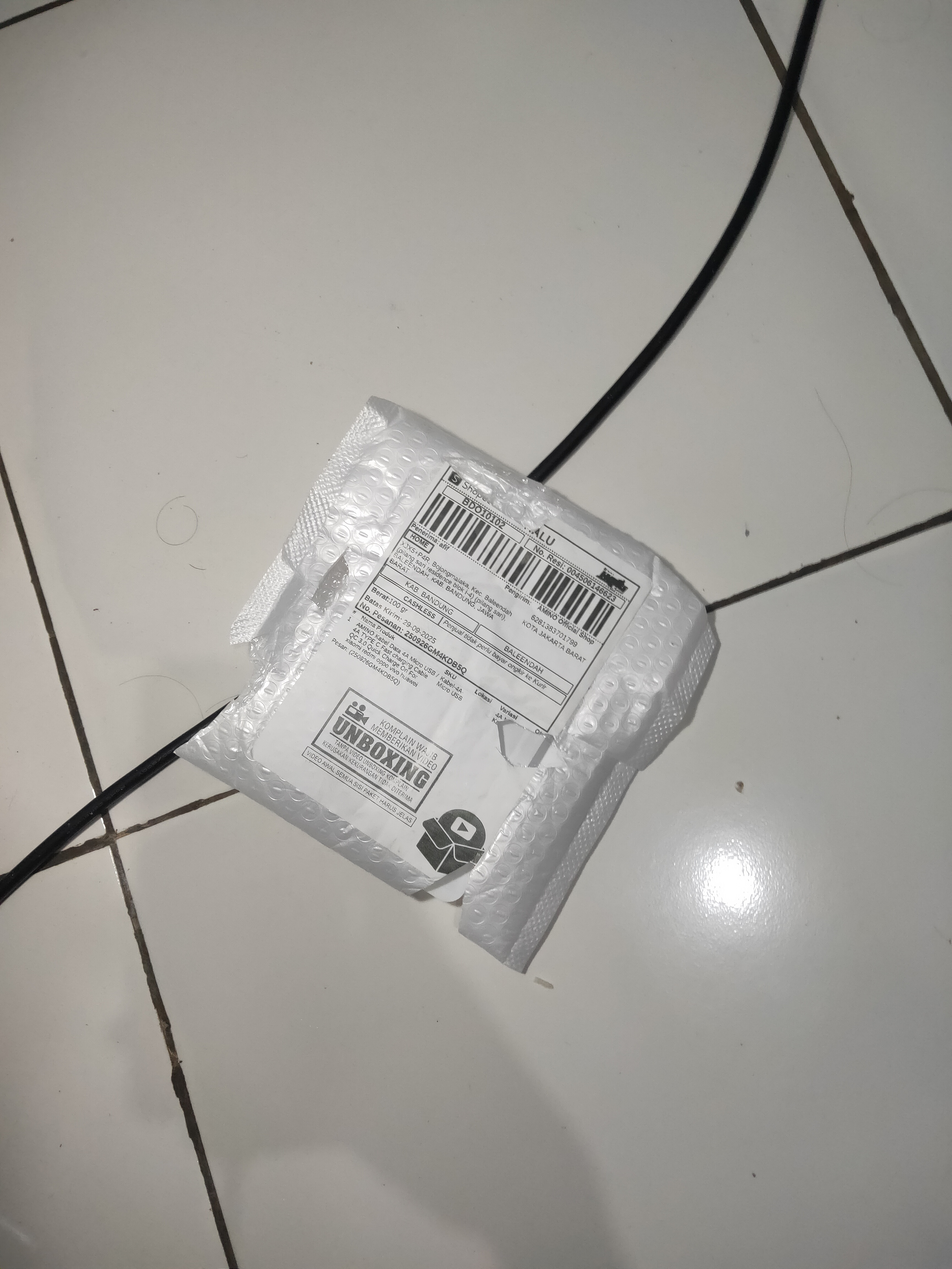damaged package: (176, 631, 275, 751), (438, 456, 571, 536), (402, 841, 489, 933), (494, 710, 573, 775), (306, 550, 354, 620)
undamaged: (173, 389, 714, 973)
